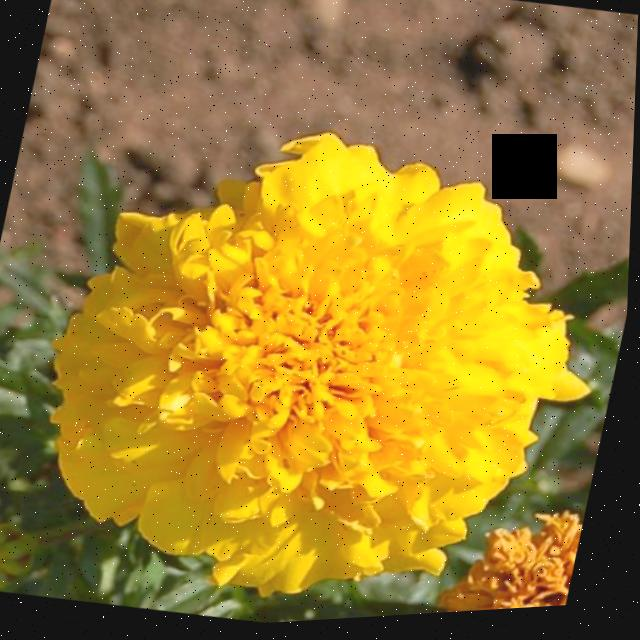marigold: (0, 90, 636, 640)
